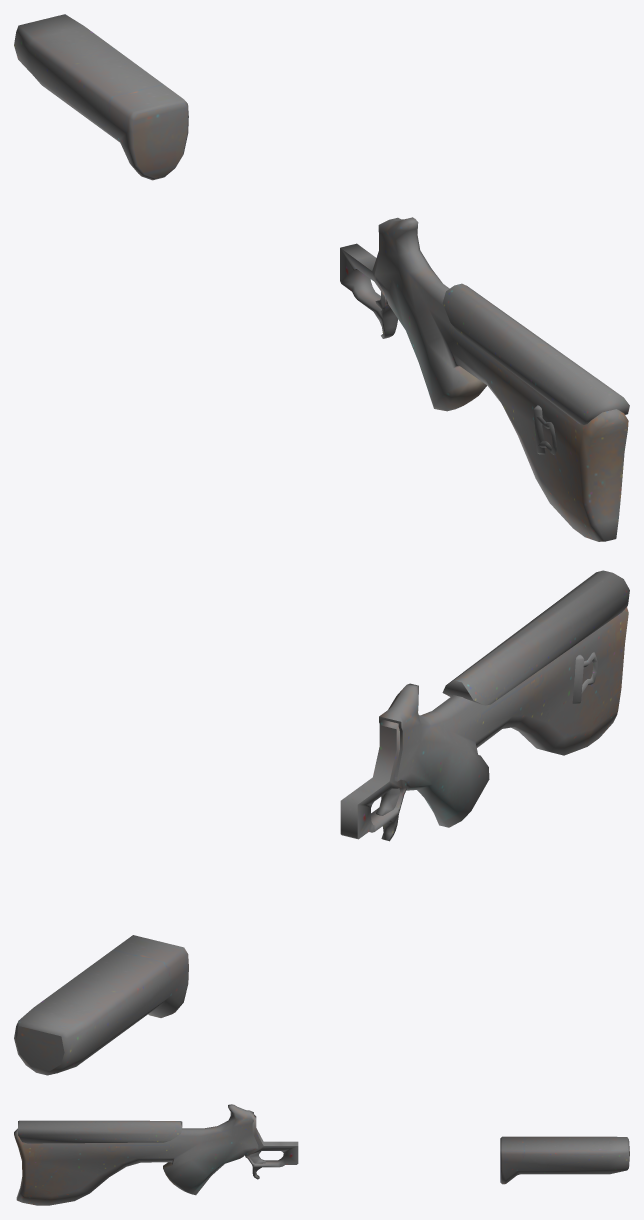
Rendered from grip5.obj.
The picture shows the model from 3 angles, top to bottom: view 1: azimuth 30°, elevation 25°; view 2: azimuth 150°, elevation 25°; view 3: azimuth 270°, elevation 25°; orthographic projection. The views are drawn at different scales.
Visible parts, largest first — view 1: grip5; view 2: grip5; view 3: grip5.
Part boxes in pixels (bbox=[...]): grip5: bbox=[14, 14, 629, 541]; grip5: bbox=[14, 570, 629, 1075]; grip5: bbox=[14, 1104, 629, 1205].
Bounding box in the file's own units: 5.85 × 16.84 × 95.54.
